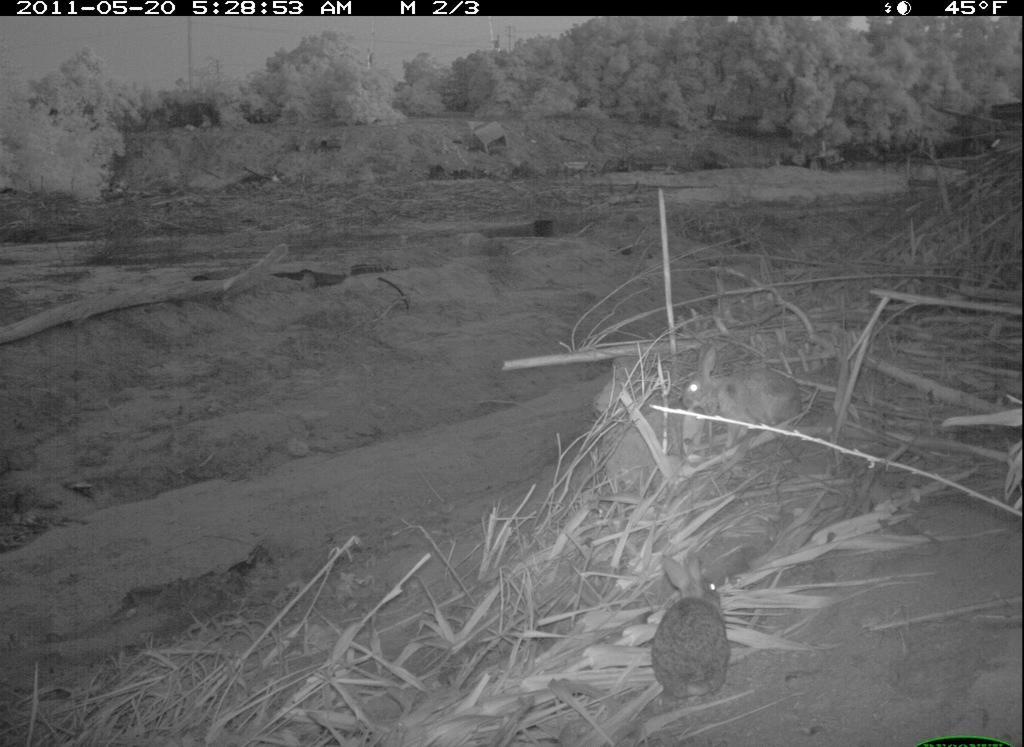rabbit: (641, 550, 751, 726), (678, 340, 811, 440)
